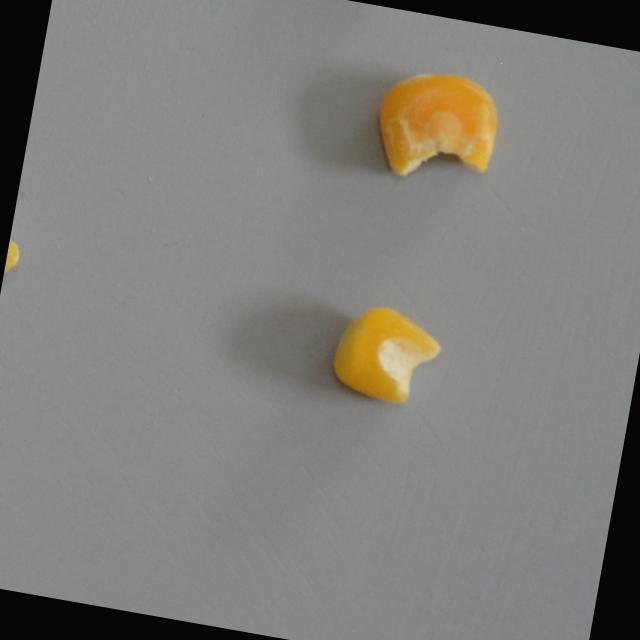no_canjicado: (325, 296, 447, 408)
pelicula: (365, 60, 505, 191), (1, 198, 29, 289)
